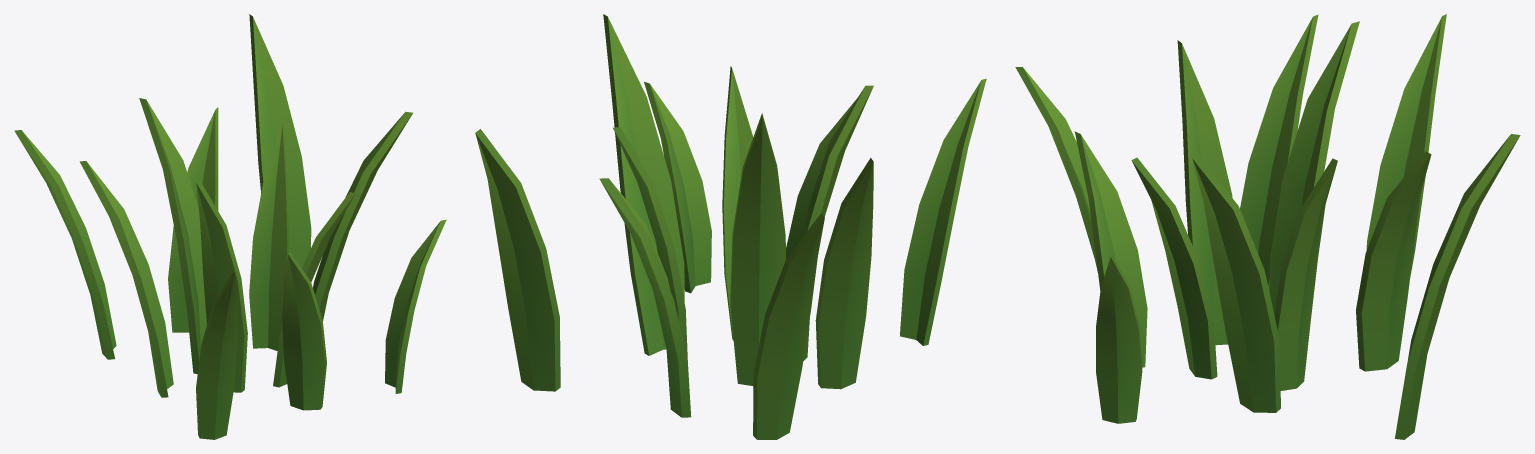
The model's file is plant-grass-large.glb.
The picture shows the model from 3 angles, left to right: view 1: azimuth 30°, elevation 25°; view 2: azimuth 150°, elevation 25°; view 3: azimuth 270°, elevation 25°; orthographic projection. The views are drawn at different scales.
Visible parts, largest first — view 1: plant.grass.large; view 2: plant.grass.large; view 3: plant.grass.large.
Boxes of the visible parts, x1,y1,x2,y2 form: plant.grass.large: (14, 14, 446, 439); plant.grass.large: (475, 14, 986, 439); plant.grass.large: (1015, 14, 1520, 439).
Bounding box in the file's own units: 1.1 × 0.9352 × 1.37.
